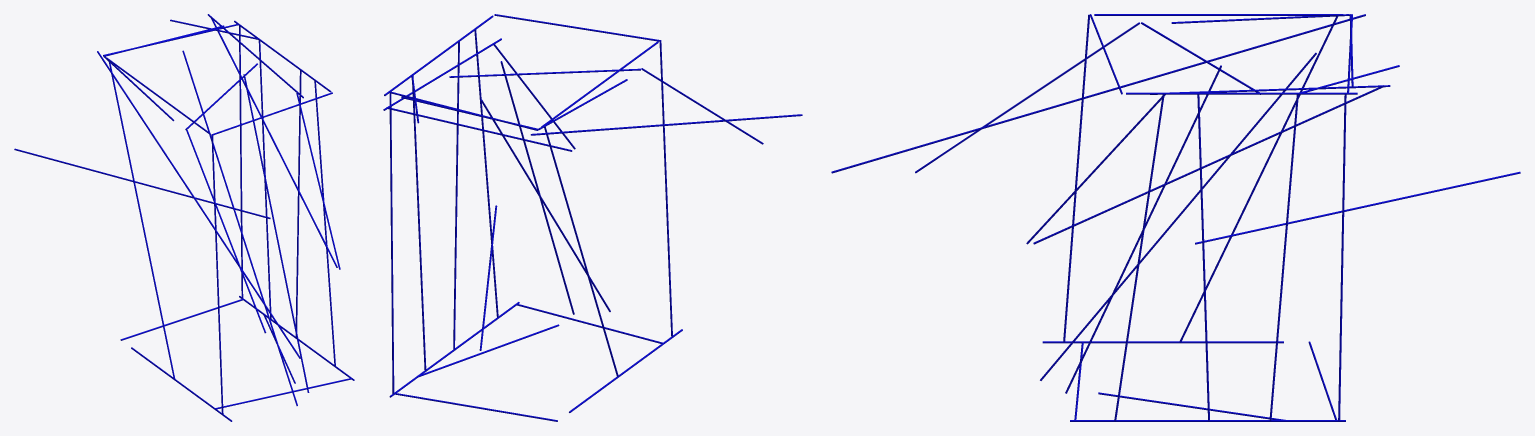
Rendered from corrected_3d_strokes.glb.
3 views of the same model, side by side, from view 1: azimuth 30°, elevation 25°; view 2: azimuth 150°, elevation 25°; view 3: azimuth 270°, elevation 25° (orthographic). The views are drawn at different scales.
Parts seen in each view (by area): view 1: world; view 2: world; view 3: world.
Boxes of the visible parts, left/top/right/bottom form: world: left=14, top=14, right=354, bottom=421; world: left=383, top=14, right=802, bottom=421; world: left=831, top=14, right=1520, bottom=421.
Size of the model in its own units: 4.19 by 7.1 by 13.46.
